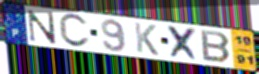9: (100, 18, 128, 53)
B: (200, 29, 233, 65)
C: (58, 13, 92, 50)
K: (133, 21, 160, 57)
N: (26, 9, 58, 45)
X: (166, 24, 202, 63)
